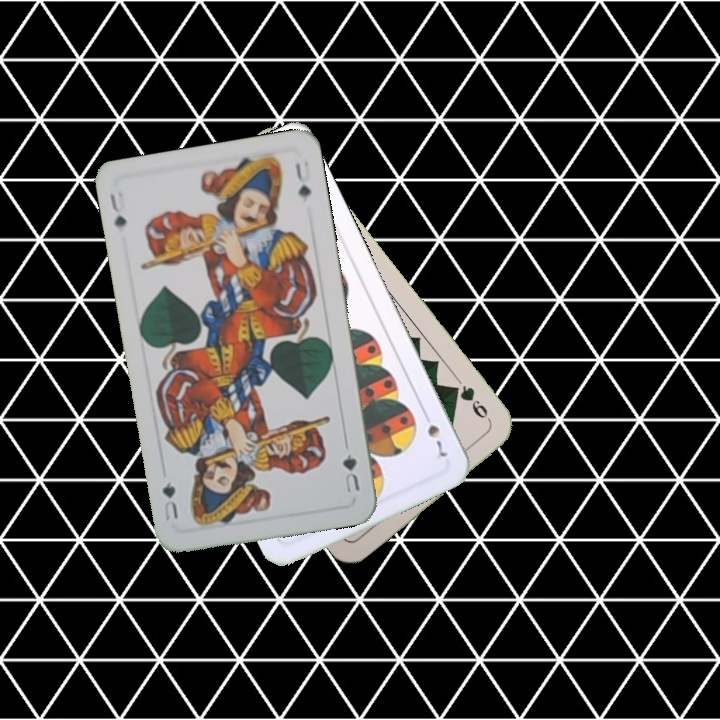G9: (447, 381, 495, 427)
GU: (338, 450, 363, 498), (106, 185, 129, 230)
S7: (419, 407, 450, 460)
